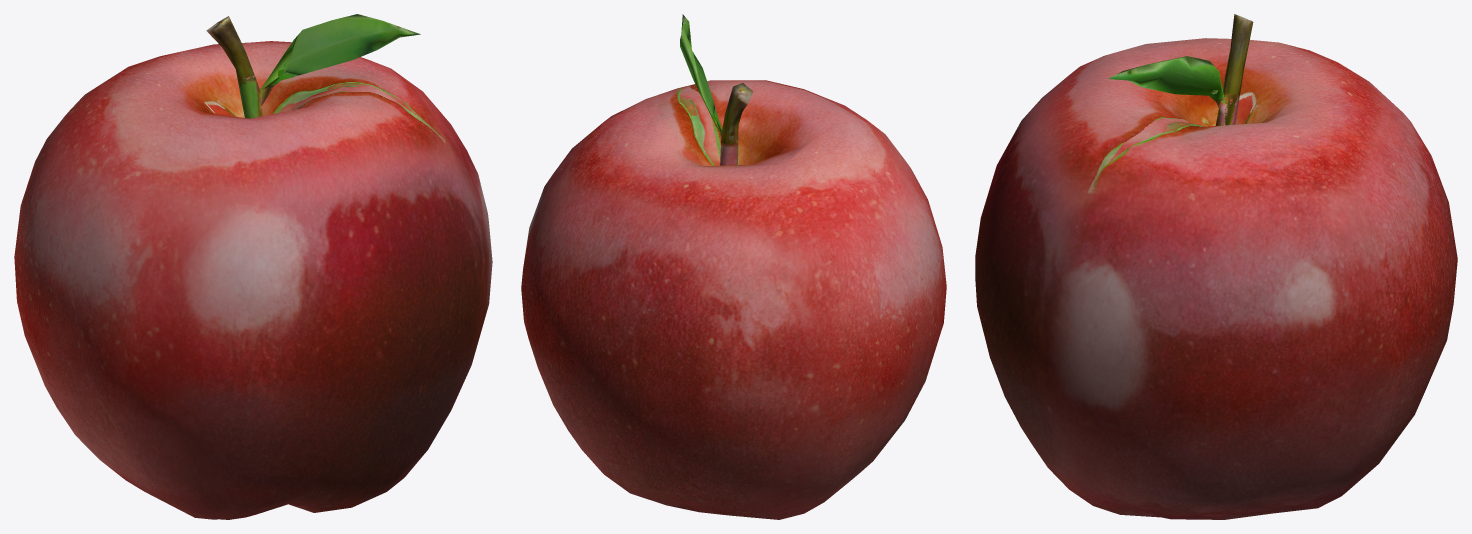
The picture shows the model from 3 angles, left to right: view 1: azimuth 30°, elevation 25°; view 2: azimuth 150°, elevation 25°; view 3: azimuth 270°, elevation 25°; orthographic projection. The views are drawn at different scales.
Visible parts, largest first — view 1: texture_mapping; view 2: texture_mapping; view 3: texture_mapping.
Boxes of the visible parts, x1,y1,x2,y2 form: texture_mapping: [14, 14, 492, 519]; texture_mapping: [521, 14, 946, 519]; texture_mapping: [975, 14, 1457, 519].
Size of the model in its own units: 0.9171 by 0.989 by 0.9197.
Materials: 1 (1 with a texture image).
